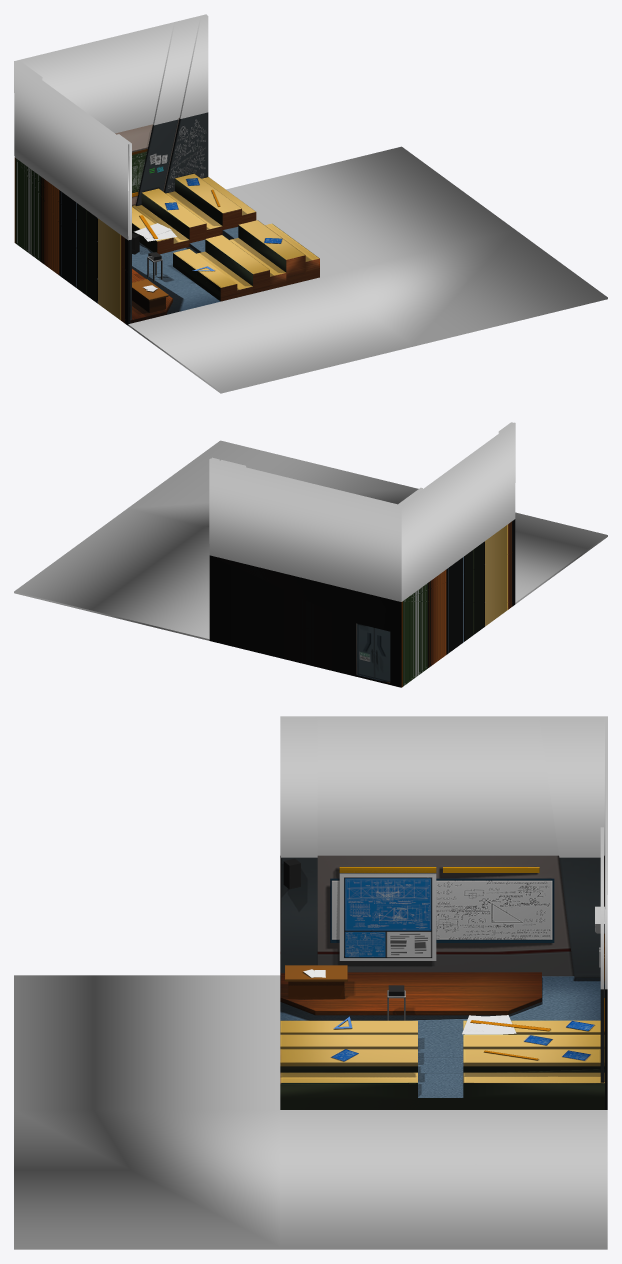
File: Tx_Interior_EducationA_Professional_20170727.fbx
The picture shows the model from 3 angles, top to bottom: view 1: azimuth 30°, elevation 25°; view 2: azimuth 150°, elevation 25°; view 3: azimuth 270°, elevation 25°; orthographic projection. The views are drawn at different scales.
Visible parts, largest first — view 1: polySurface2, polySurface7, polySurface1, polySurface3, polySurface4; view 2: polySurface1, polySurface2, polySurface7; view 3: polySurface2, polySurface7, polySurface1, polySurface5, polySurface6.
Boxes of the visible parts, x1=… form: polySurface2: x1=128, y1=146, x2=607, y2=393; polySurface7: x1=14, y1=112, x2=319, y2=325; polySurface1: x1=14, y1=14, x2=206, y2=240; polySurface3: x1=153, y1=17, x2=198, y2=125; polySurface4: x1=179, y1=15, x2=208, y2=118; polySurface1: x1=209, y1=422, x2=515, y2=601; polySurface2: x1=14, y1=440, x2=607, y2=640; polySurface7: x1=209, y1=519, x2=515, y2=687; polySurface2: x1=14, y1=975, x2=607, y2=1249; polySurface7: x1=280, y1=855, x2=607, y2=1109; polySurface1: x1=280, y1=716, x2=607, y2=989; polySurface5: x1=539, y1=718, x2=603, y2=857; polySurface6: x1=281, y1=718, x2=317, y2=857.
Bounding box in the file's own units: 106 × 47.34 × 97.45.
